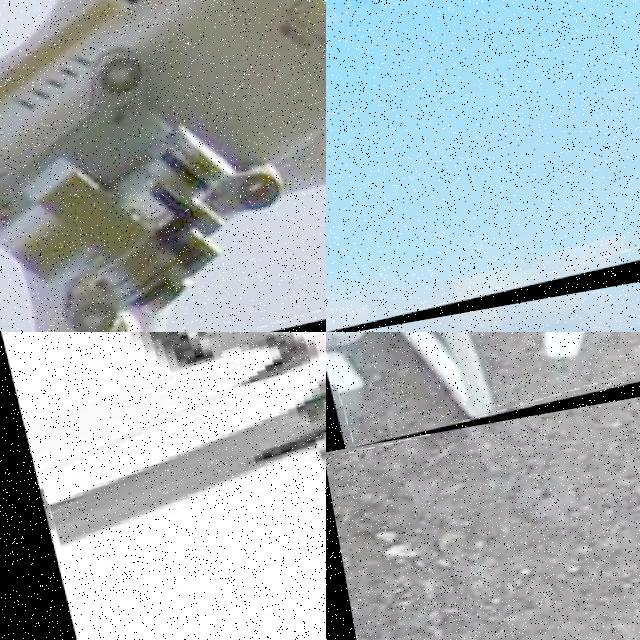0: (0, 0, 326, 332), (326, 332, 640, 452)
drone: (326, 0, 640, 332), (0, 332, 326, 640)
